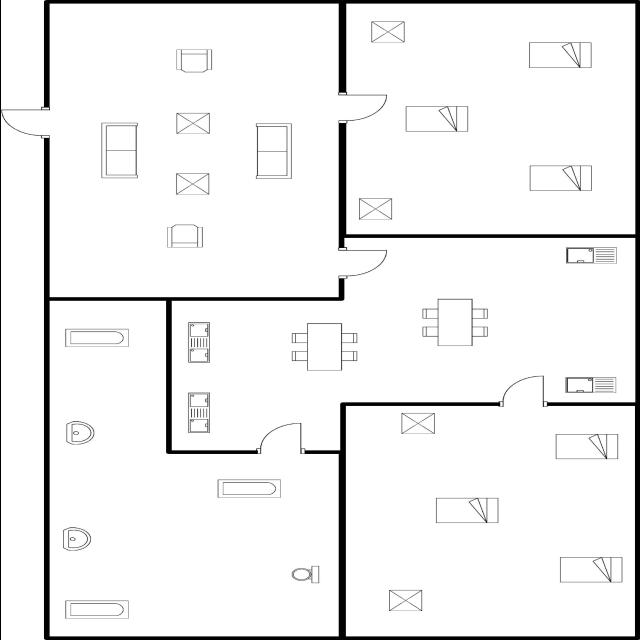armchair: (162, 219, 207, 253), (169, 47, 218, 75)
bed: (524, 162, 596, 196), (430, 493, 503, 526), (522, 38, 596, 70), (554, 554, 628, 586), (551, 431, 623, 463), (399, 104, 474, 134)
coffee_table: (170, 109, 216, 137), (170, 170, 213, 198), (366, 18, 408, 46), (397, 409, 439, 437), (384, 586, 426, 614), (352, 196, 396, 222)
dining_table: (416, 296, 496, 350), (287, 318, 361, 374)
large_sink: (288, 562, 324, 586)
large_sofa: (94, 119, 144, 181), (250, 120, 296, 182)
sink: (556, 245, 621, 268), (562, 374, 622, 396)
small_sink: (58, 417, 98, 448), (59, 523, 96, 554)
tub: (59, 324, 132, 352), (212, 475, 286, 501), (60, 596, 132, 622)
twin_sink: (182, 318, 216, 366), (182, 388, 214, 436)
